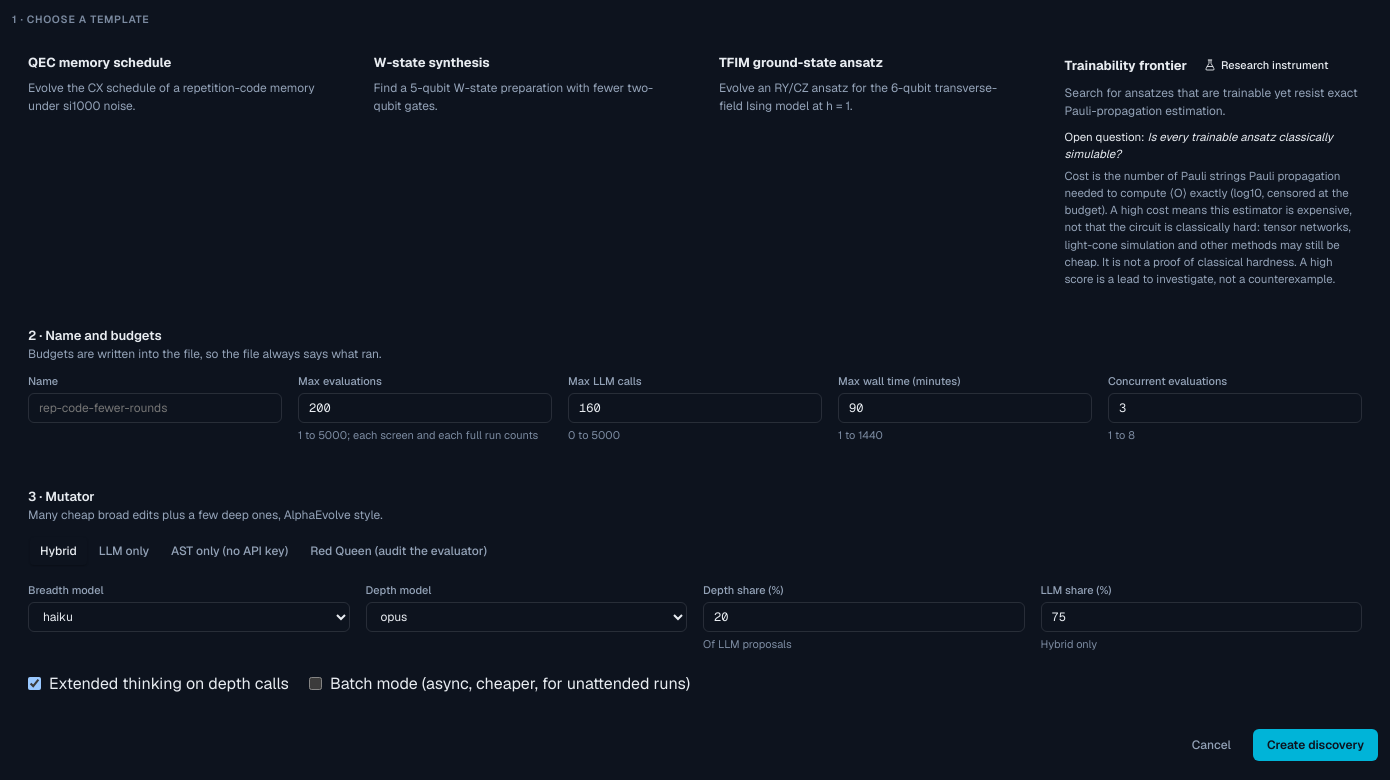
Test case: NewDiscoveryWizard › requires a name before creating
Click the button "Create discovery".
click(1315, 745)  # box left=1253, top=729, right=1378, bottom=761
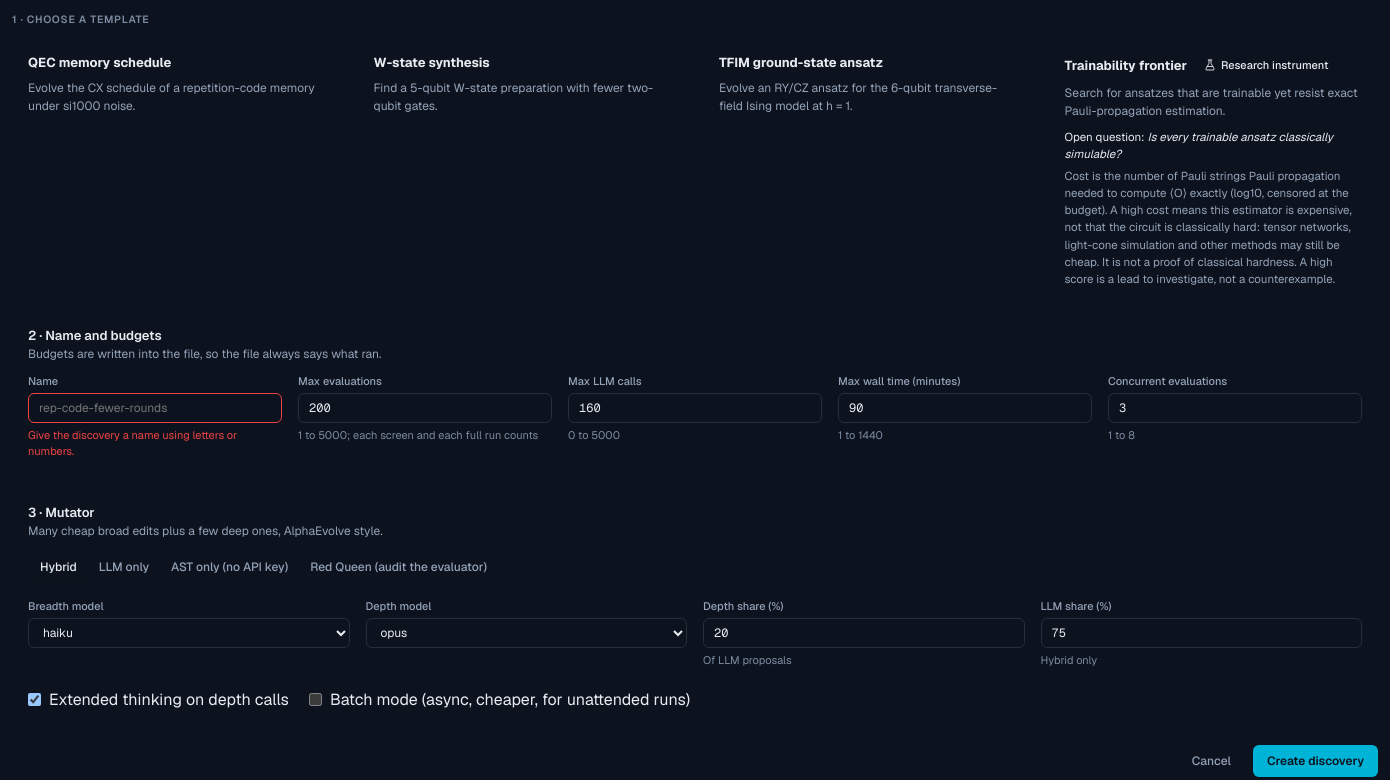
Now the message shows "Give the discovery a name", box left=28, top=428, right=237, bottom=458
